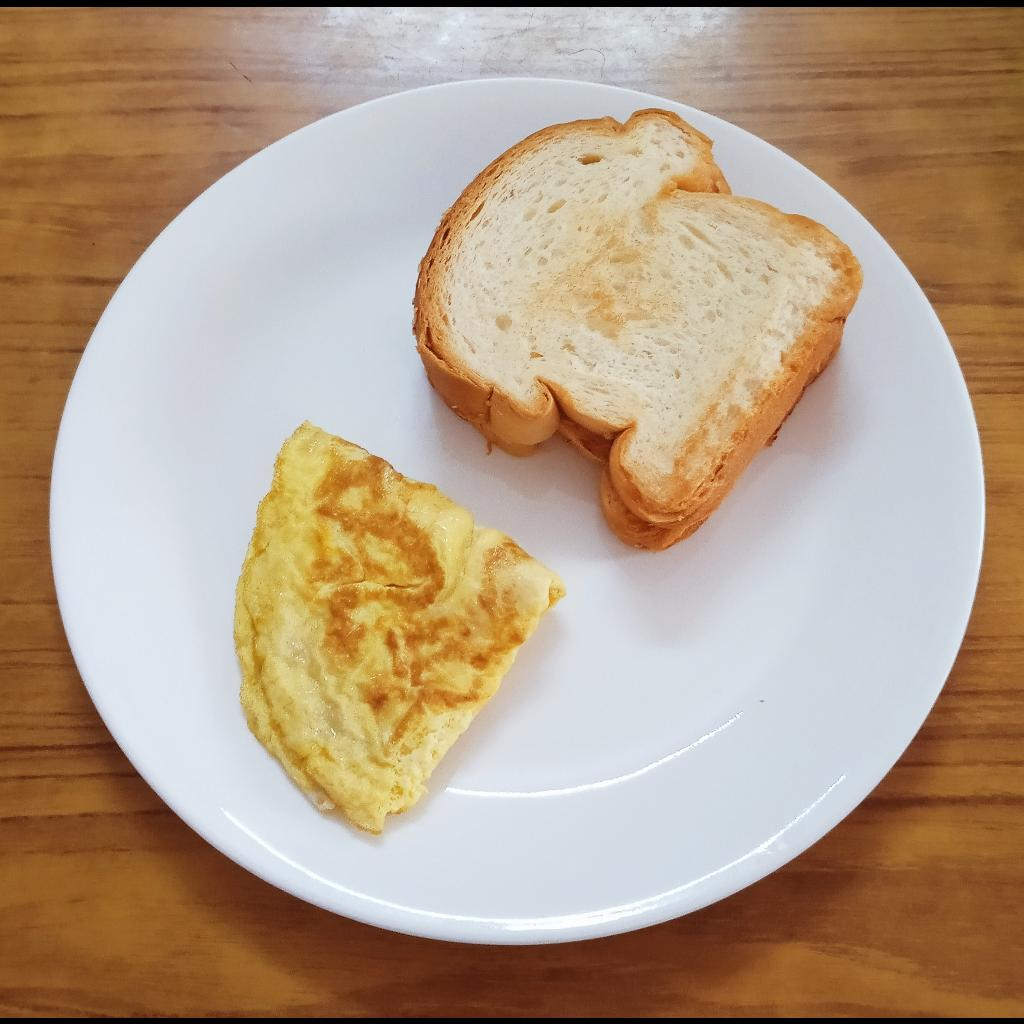bread: (407, 104, 869, 552)
egg-poached: (232, 416, 574, 841)
